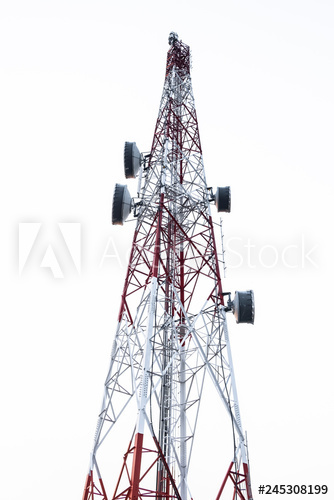b: (235, 288, 260, 324), (123, 139, 142, 177), (112, 186, 129, 228), (215, 187, 232, 212)
